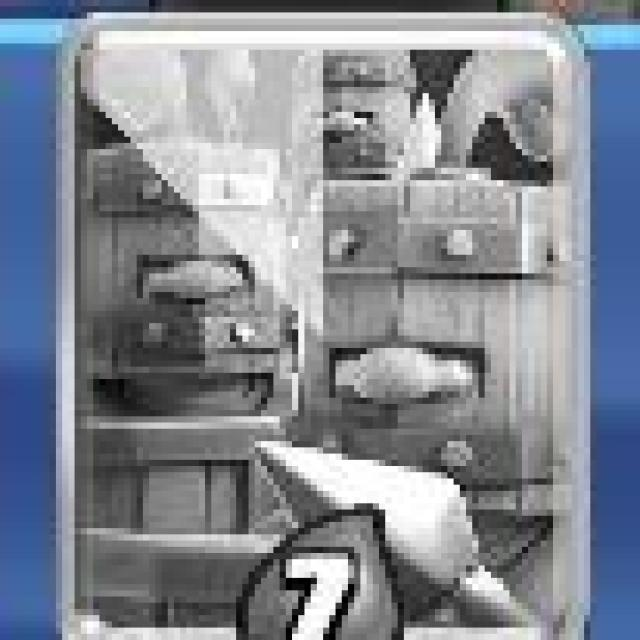Royal_Recruits: (55, 11, 588, 638)
